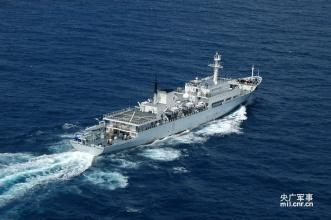warship: (64, 49, 269, 158)
